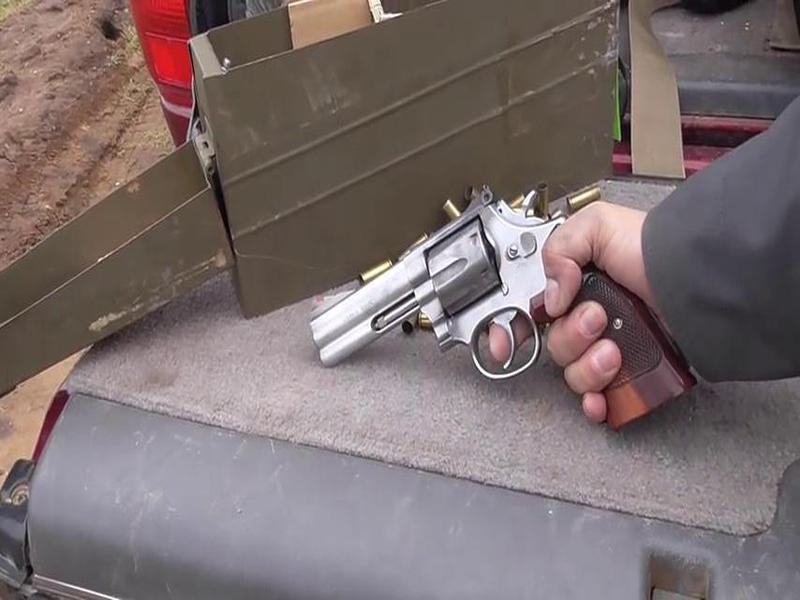Revolver: (282, 179, 682, 450)
